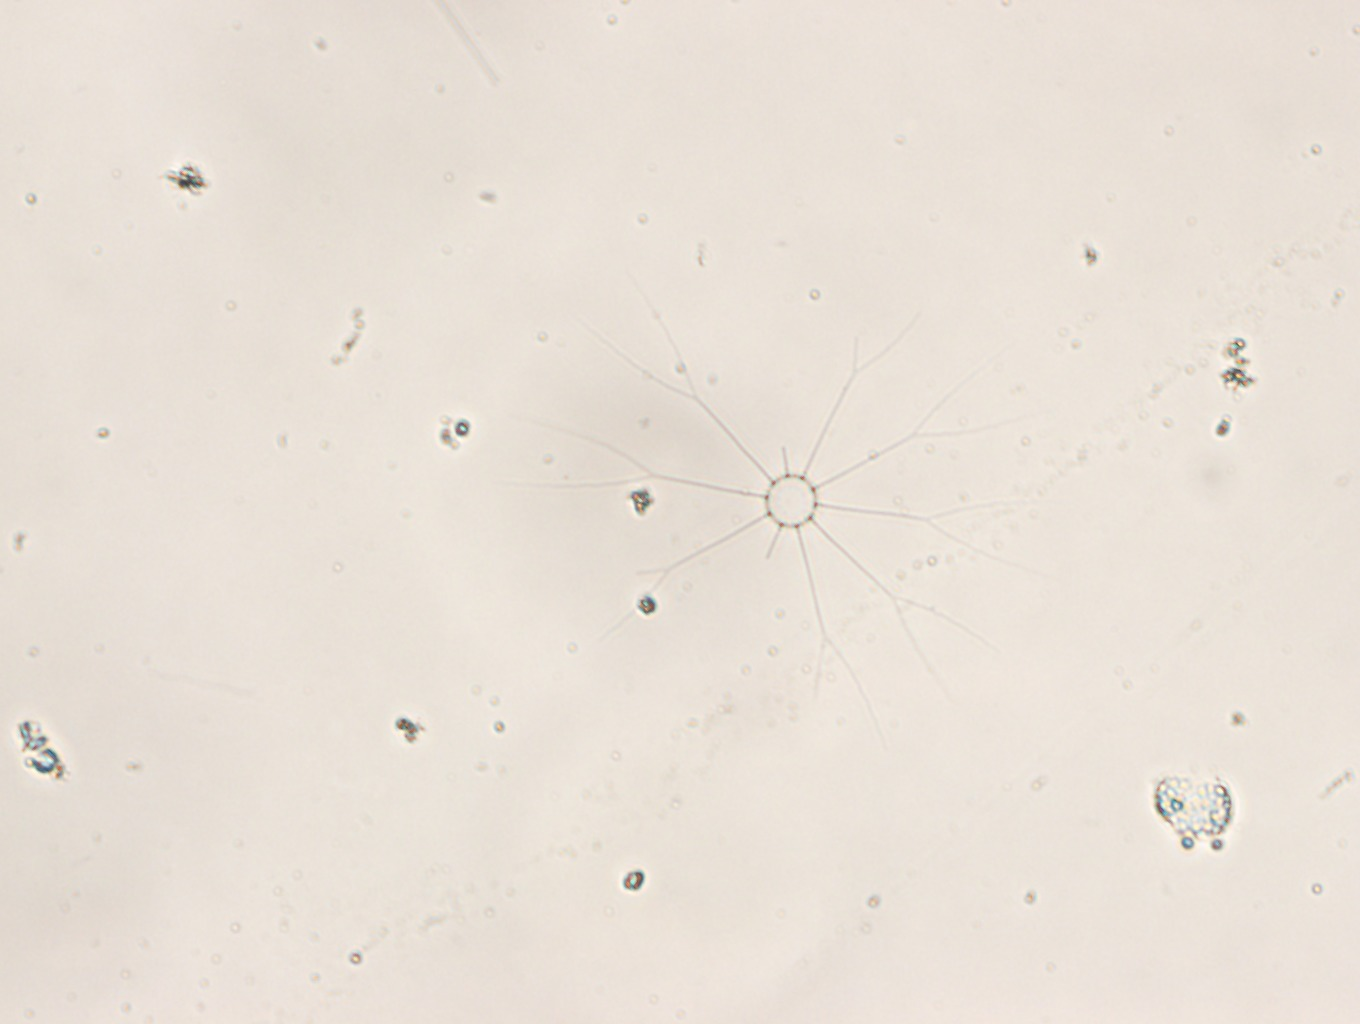bacteriastrum: (536, 308, 1053, 730)
